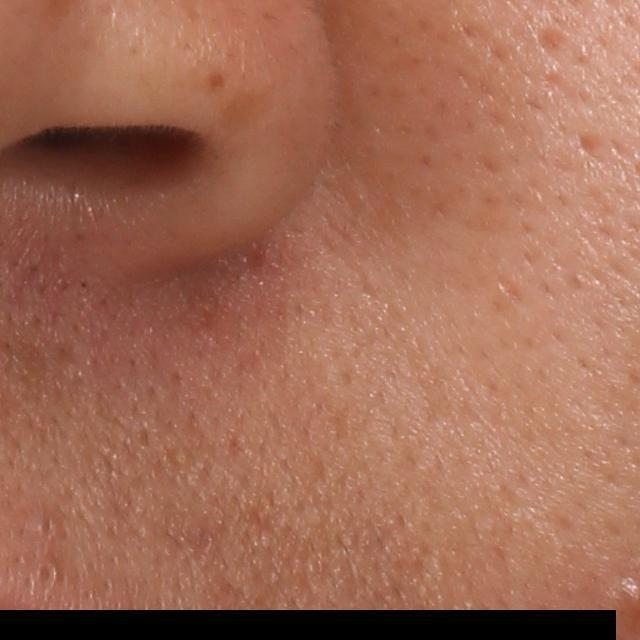atrophic_scar: (535, 26, 568, 60), (575, 126, 603, 161)
comedo: (30, 557, 60, 587)
